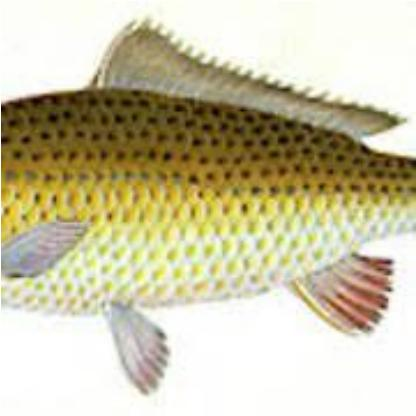ikan-mas: (0, 76, 412, 340)
